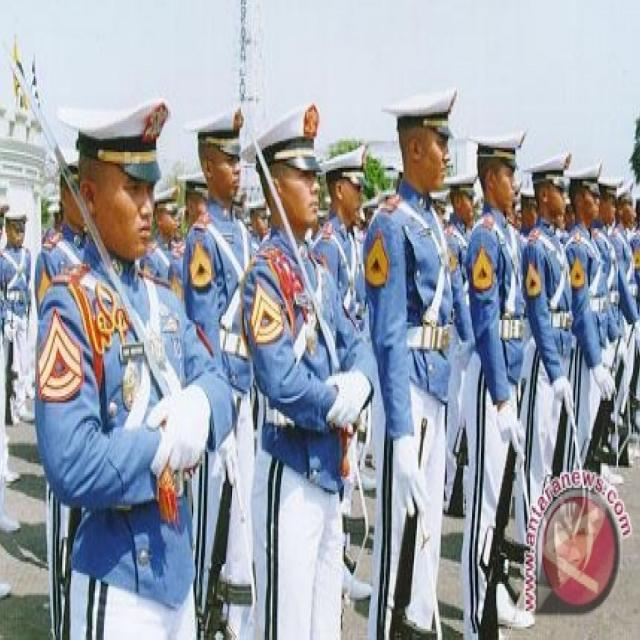peserta: (36, 82, 200, 640), (250, 114, 357, 640), (376, 81, 453, 640), (468, 118, 526, 640), (527, 133, 567, 593), (571, 143, 612, 540), (617, 151, 639, 476), (4, 209, 33, 449), (46, 146, 86, 314), (146, 175, 186, 334), (600, 150, 613, 475), (243, 190, 269, 287), (182, 141, 206, 241)
